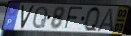8: (49, 6, 65, 31)
A: (94, 7, 114, 33)
F: (63, 6, 84, 31)
Q: (83, 5, 101, 33), (32, 5, 49, 30)
V: (20, 4, 35, 30)
